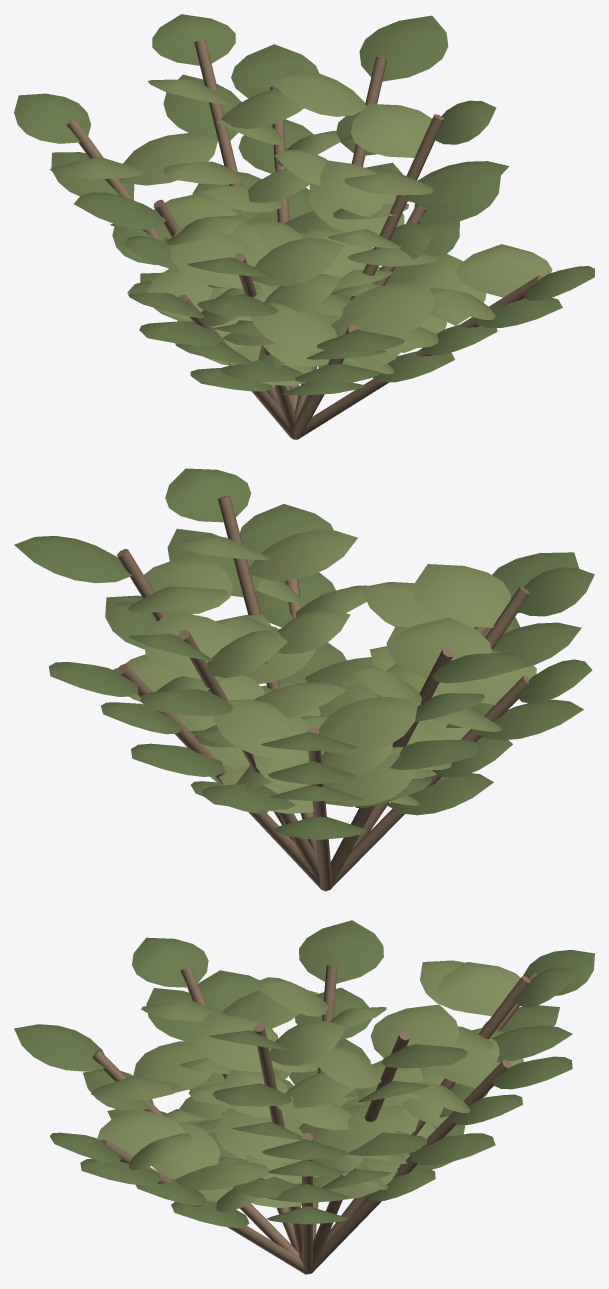
3 renders of one model, top to bottom at view 1: azimuth 30°, elevation 25°; view 2: azimuth 150°, elevation 25°; view 3: azimuth 270°, elevation 25°, orthographic. The views are drawn at different scales.
Parts seen in each view (by area): view 1: Mesh_leaf-sage, Mesh_leaf-olive, Mesh_branch; view 2: Mesh_leaf-sage, Mesh_leaf-olive, Mesh_branch; view 3: Mesh_leaf-sage, Mesh_leaf-olive, Mesh_branch.
Boxes of the visible parts, left/top/right/bottom form: Mesh_leaf-sage: left=50, top=71, right=552, bottom=385; Mesh_leaf-olive: left=14, top=14, right=594, bottom=395; Mesh_branch: left=66, top=39, right=542, bottom=439; Mesh_leaf-sage: left=116, top=530, right=536, bottom=813; Mesh_leaf-olive: left=14, top=468, right=594, bottom=839; Mesh_branch: left=117, top=495, right=530, bottom=891; Mesh_leaf-sage: left=91, top=960, right=523, bottom=1212; Mesh_leaf-olive: left=14, top=920, right=594, bottom=1227; Mesh_branch: left=92, top=965, right=537, bottom=1274.
Size of the model in its own units: 2.11 by 1.58 by 2.67.
